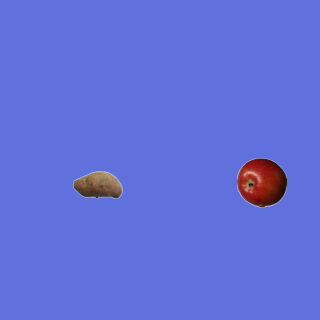Apple Braeburn: (236, 157, 286, 207)
Potato Sweet: (72, 159, 122, 209)
